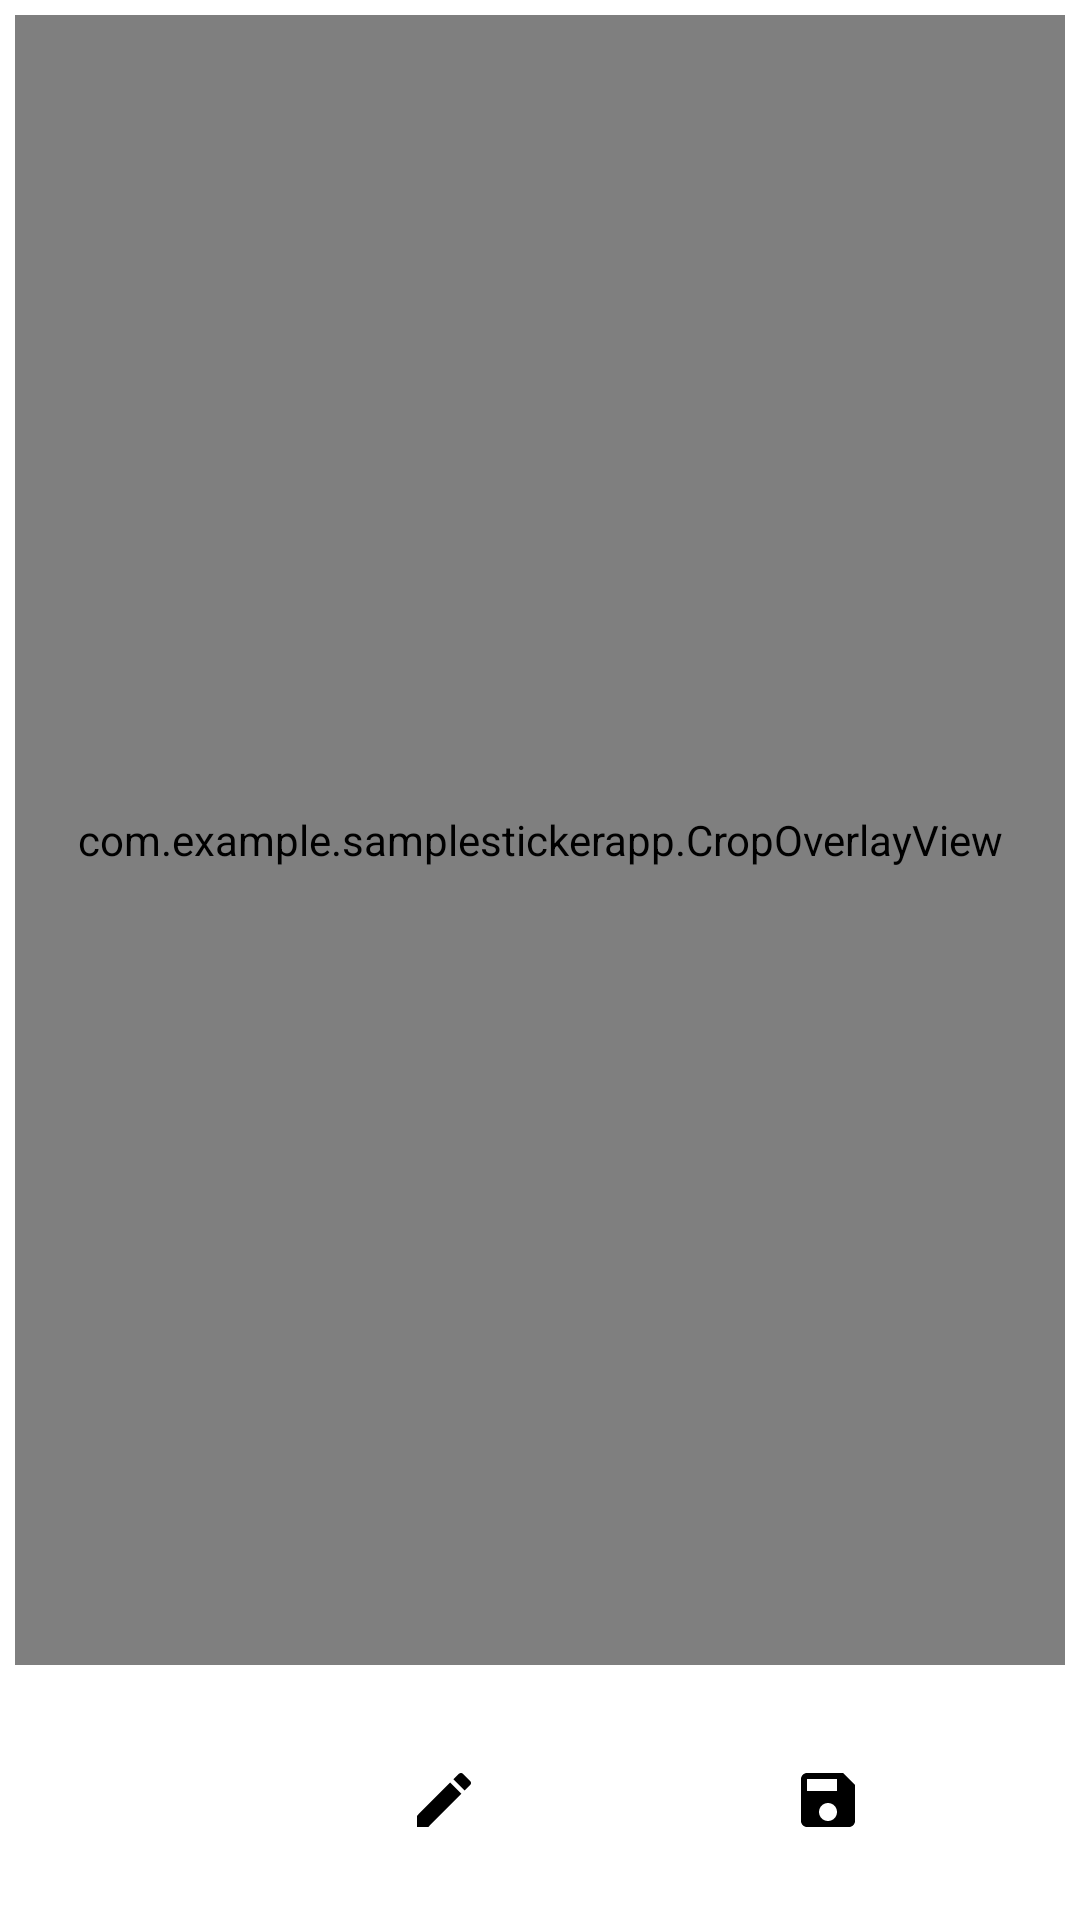

Where to tap for icons on this 1080px x 1920px app screen, as (x,y):
Editar: (444,1800)
Salvar: (828,1800)
